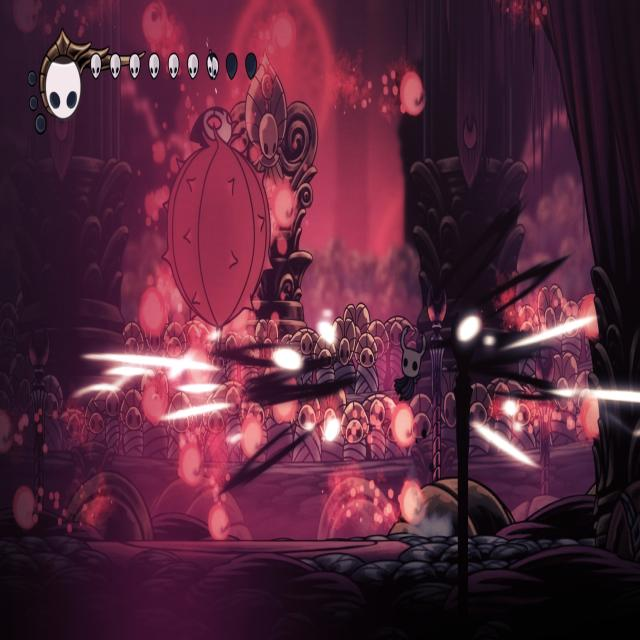Player: (394, 322, 427, 407)
Pufferfish: (156, 102, 276, 362)
Tiny Fireballs: (139, 288, 167, 339), (142, 3, 168, 52), (142, 375, 168, 423), (399, 72, 425, 118), (392, 403, 416, 449), (14, 486, 38, 531), (399, 480, 423, 524), (179, 445, 202, 487), (243, 414, 264, 458), (11, 0, 39, 32), (208, 504, 230, 541), (583, 399, 601, 441), (0, 409, 14, 453), (274, 402, 295, 424)
